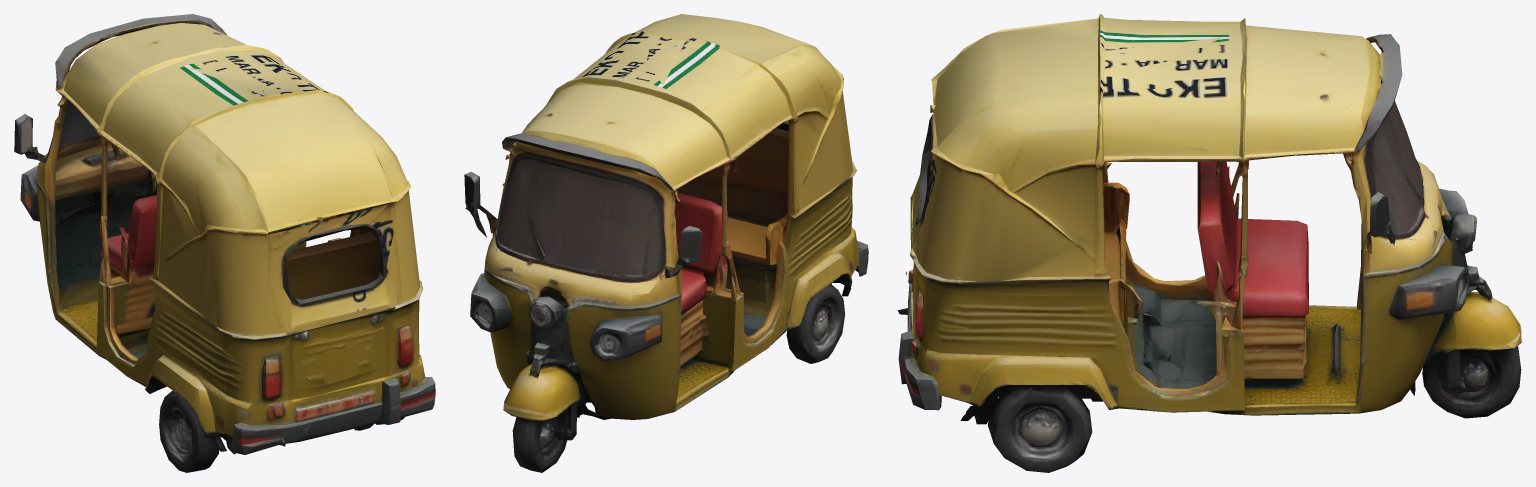
File: keke_realistic.glb
3 views of the same model, side by side, from view 1: azimuth 30°, elevation 25°; view 2: azimuth 150°, elevation 25°; view 3: azimuth 270°, elevation 25° (orthographic). The views are drawn at different scales.
Visible parts, largest first — view 1: Autorickshaw_Autorickshaw_0; view 2: Autorickshaw_Autorickshaw_0; view 3: Autorickshaw_Autorickshaw_0.
Part boxes in pixels (x1,y1,x2,y2): Autorickshaw_Autorickshaw_0: [14, 14, 435, 472]; Autorickshaw_Autorickshaw_0: [464, 14, 868, 472]; Autorickshaw_Autorickshaw_0: [897, 14, 1521, 472].
Bounding box in the file's own units: 1.28 × 1.63 × 2.47.
1 material, 1 textured.
